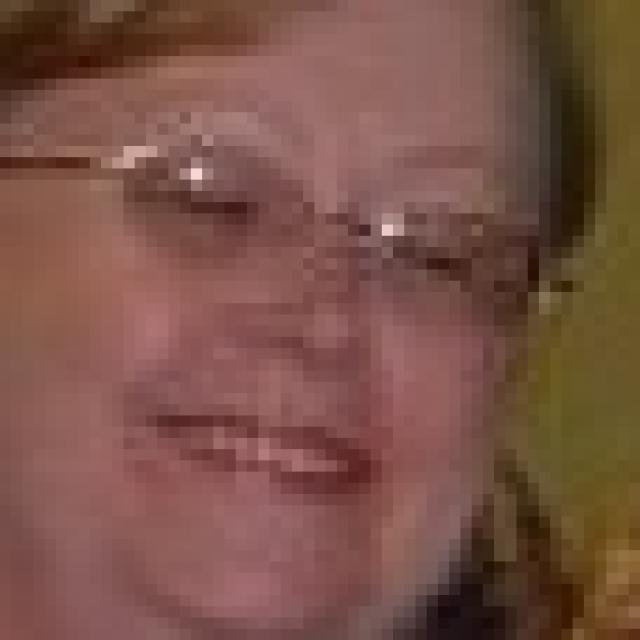Eyeclosed: (151, 175, 254, 230), (392, 237, 473, 293)
